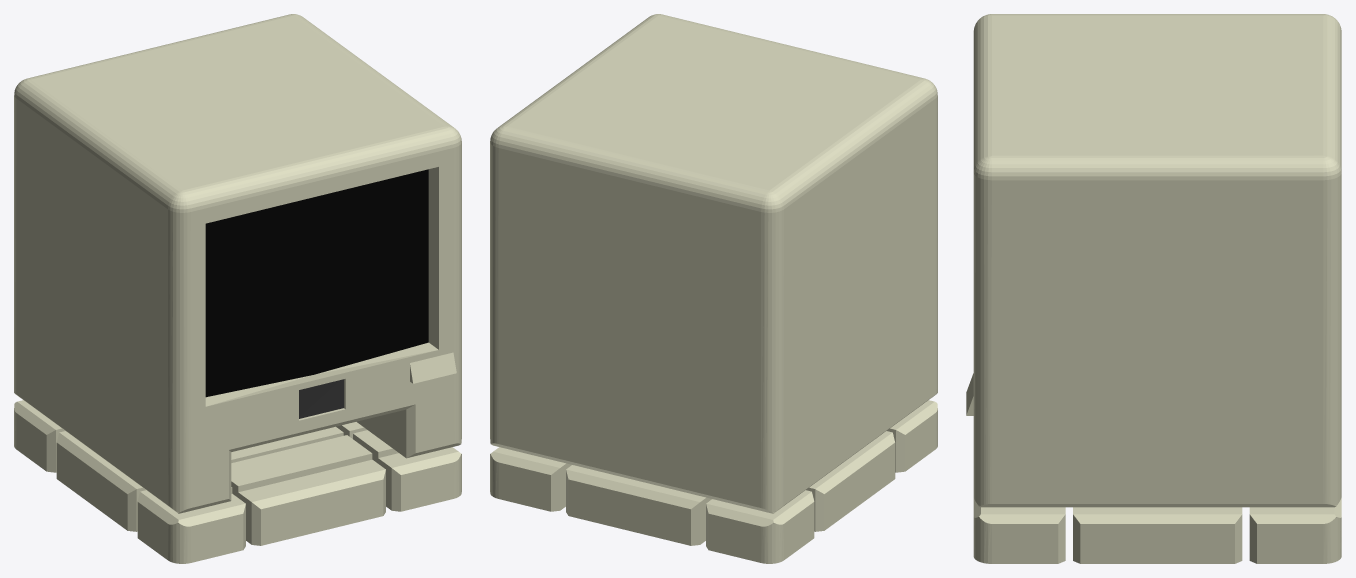
The model's file is Mesh_Monitor.FBX.
3 views of the same model, side by side, from view 1: azimuth 30°, elevation 25°; view 2: azimuth 150°, elevation 25°; view 3: azimuth 270°, elevation 25° (orthographic). The views are drawn at different scales.
Visible parts, largest first — view 1: Mesh_Monitor; view 2: Mesh_Monitor; view 3: Mesh_Monitor.
Part boxes in pixels (x1=…): Mesh_Monitor: x1=14, y1=14, x2=461, y2=563; Mesh_Monitor: x1=490, y1=14, x2=937, y2=563; Mesh_Monitor: x1=966, y1=14, x2=1341, y2=563.
Size of what is drawn, in the model's own units: 50 by 51 by 60.
